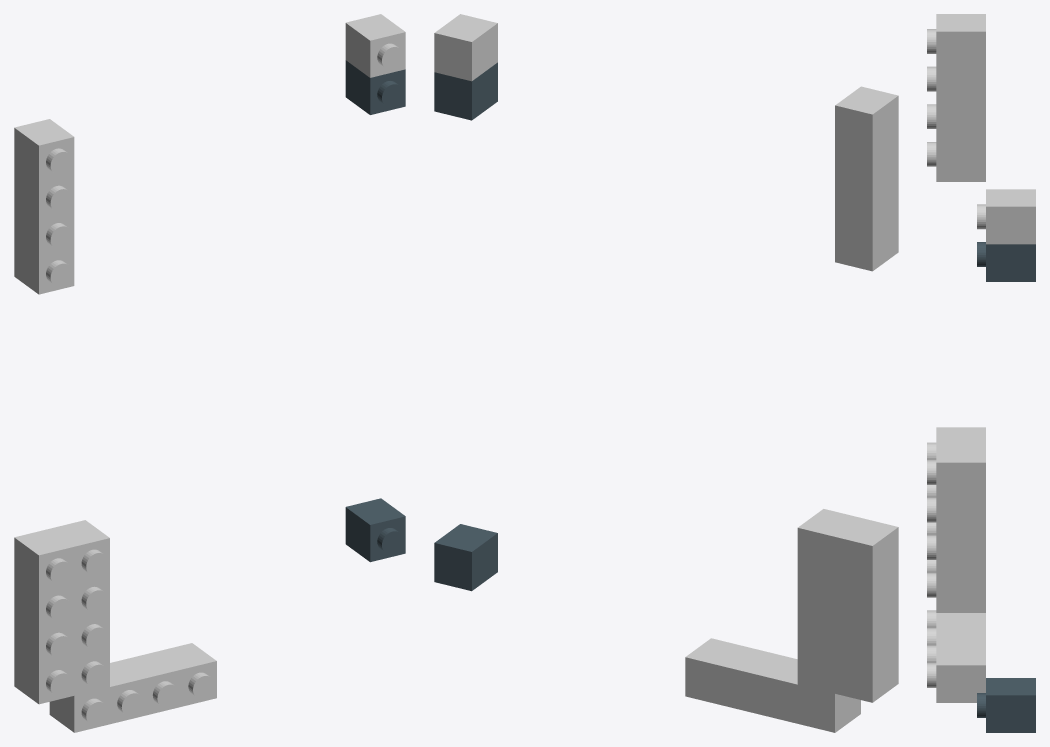
File: current.glb
3 renders of one model, left to right at view 1: azimuth 30°, elevation 25°; view 2: azimuth 150°, elevation 25°; view 3: azimuth 270°, elevation 25°, orthographic. The views are drawn at different scales.
Parts seen in each view (by area): view 1: world; view 2: world; view 3: world.
Part boxes in pixels (x1=…): world: x1=14, y1=14, x2=405, y2=732; world: x1=434, y1=14, x2=898, y2=732; world: x1=927, y1=14, x2=1035, y2=732.
Size of the model in its own units: 88 by 128 by 21.
